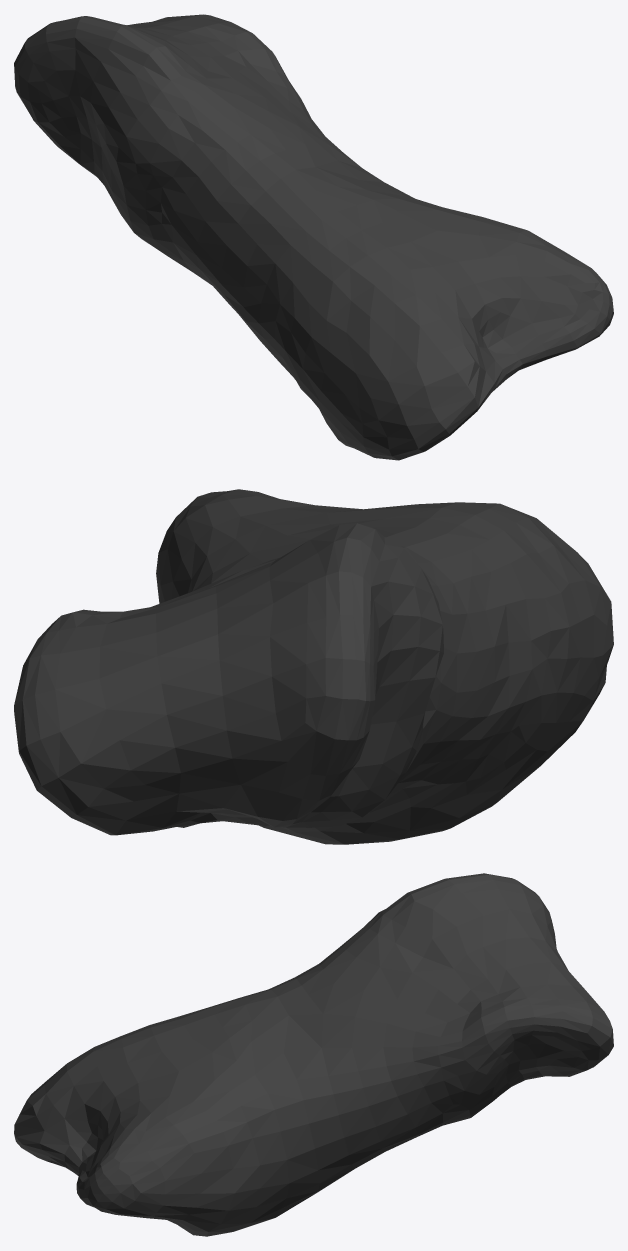
The model's file is Middle_phalange_2.glb.
3 renders of one model, top to bottom at view 1: azimuth 30°, elevation 25°; view 2: azimuth 150°, elevation 25°; view 3: azimuth 270°, elevation 25°, orthographic. The views are drawn at different scales.
Visible parts, largest first — view 1: Middle_phalange_2; view 2: Middle_phalange_2; view 3: Middle_phalange_2.
Boxes of the visible parts, bbox=[...] form: Middle_phalange_2: bbox=[14, 14, 613, 460]; Middle_phalange_2: bbox=[14, 489, 613, 844]; Middle_phalange_2: bbox=[14, 873, 613, 1236].
Bounding box in the file's own units: 0.1215 × 0.106 × 0.1962.
1 material, 1 textured.
